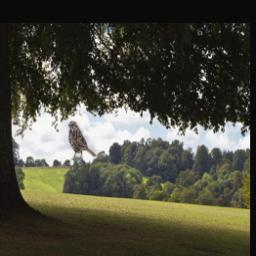Sparrow: (68, 121, 98, 161)
